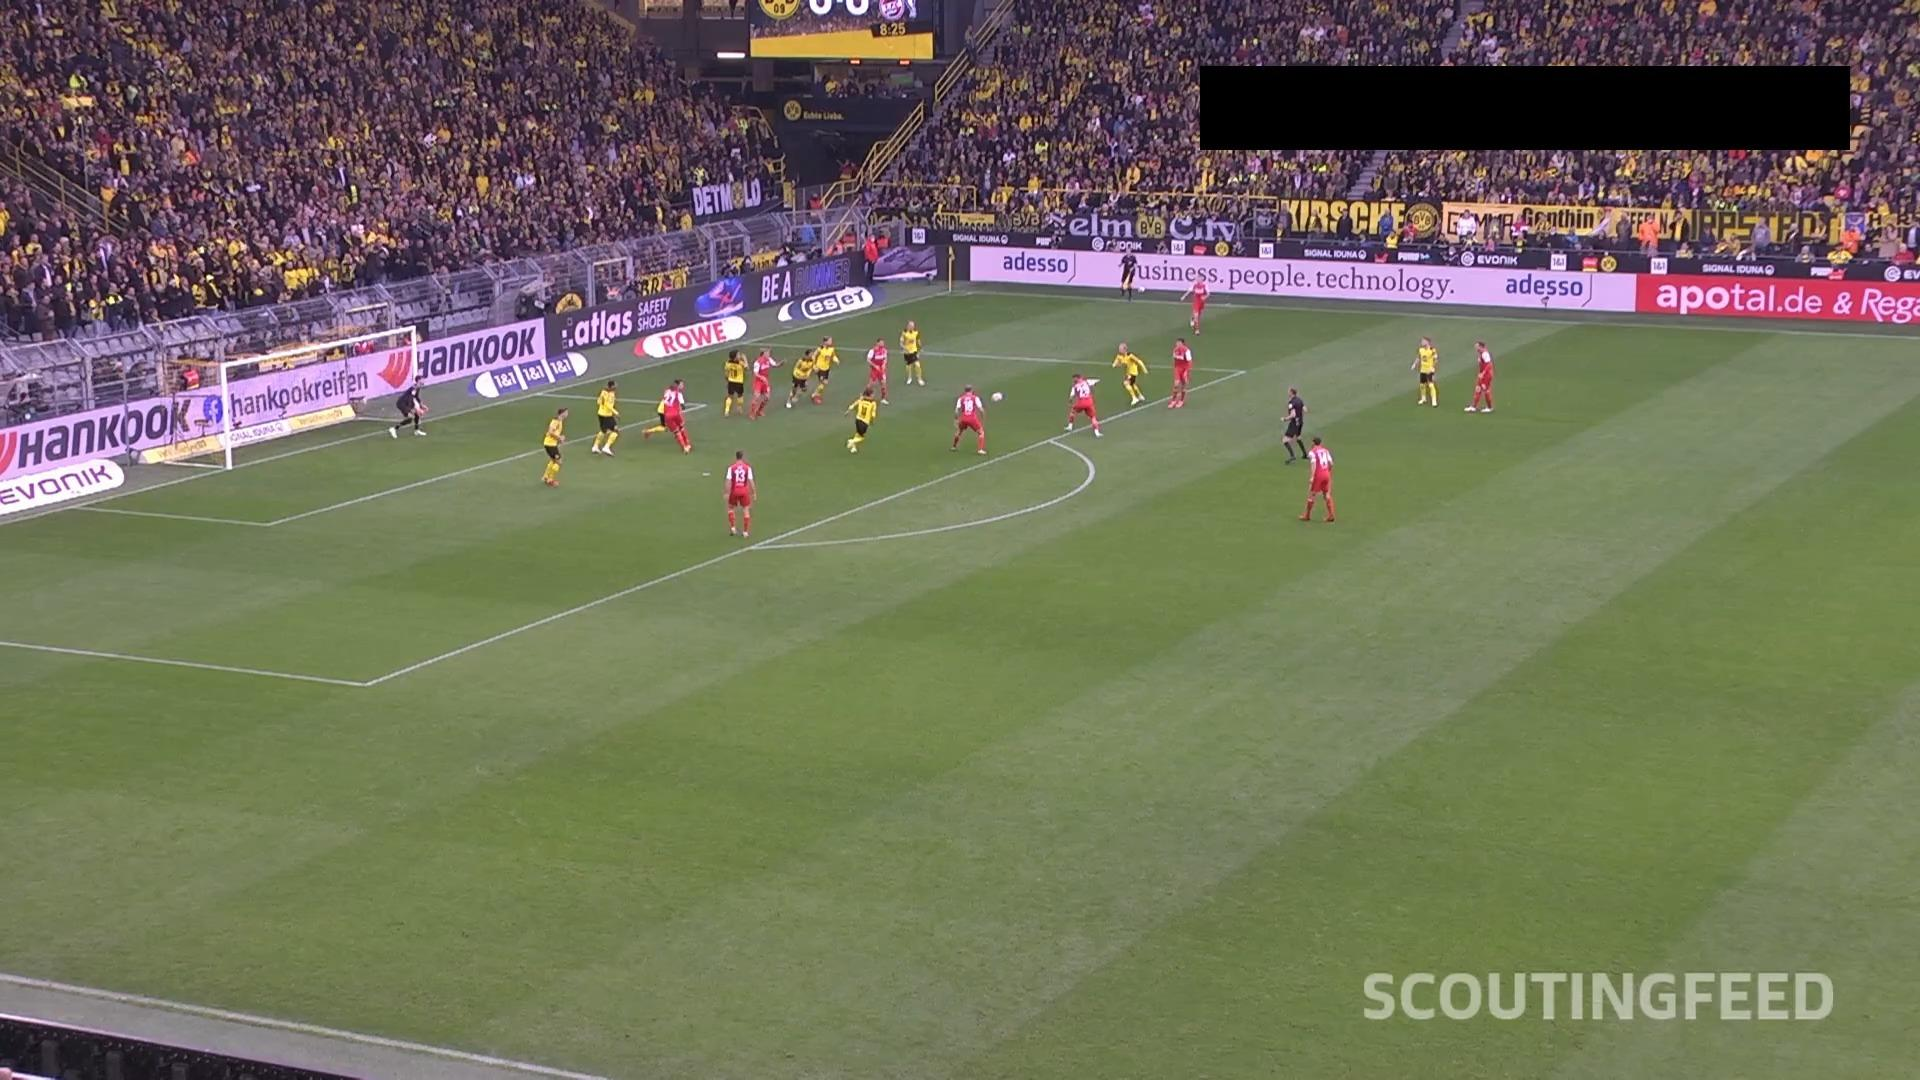ball: (990, 392, 1002, 402)
fan: (1635, 210, 1660, 254)
player: (641, 377, 692, 453), (1298, 435, 1335, 521), (722, 448, 756, 537), (949, 384, 987, 454), (1062, 371, 1102, 437), (746, 347, 781, 419), (388, 376, 428, 438), (1110, 342, 1148, 406), (844, 383, 877, 453), (540, 406, 568, 486), (591, 379, 620, 455), (1464, 339, 1494, 412), (809, 334, 840, 403), (1410, 335, 1438, 406), (1165, 337, 1192, 409), (784, 347, 815, 409), (898, 319, 925, 386), (721, 348, 747, 417), (865, 337, 890, 404), (640, 388, 669, 439), (1183, 275, 1208, 334)
referee: (1280, 386, 1310, 465), (1117, 246, 1137, 300), (861, 232, 879, 283)
